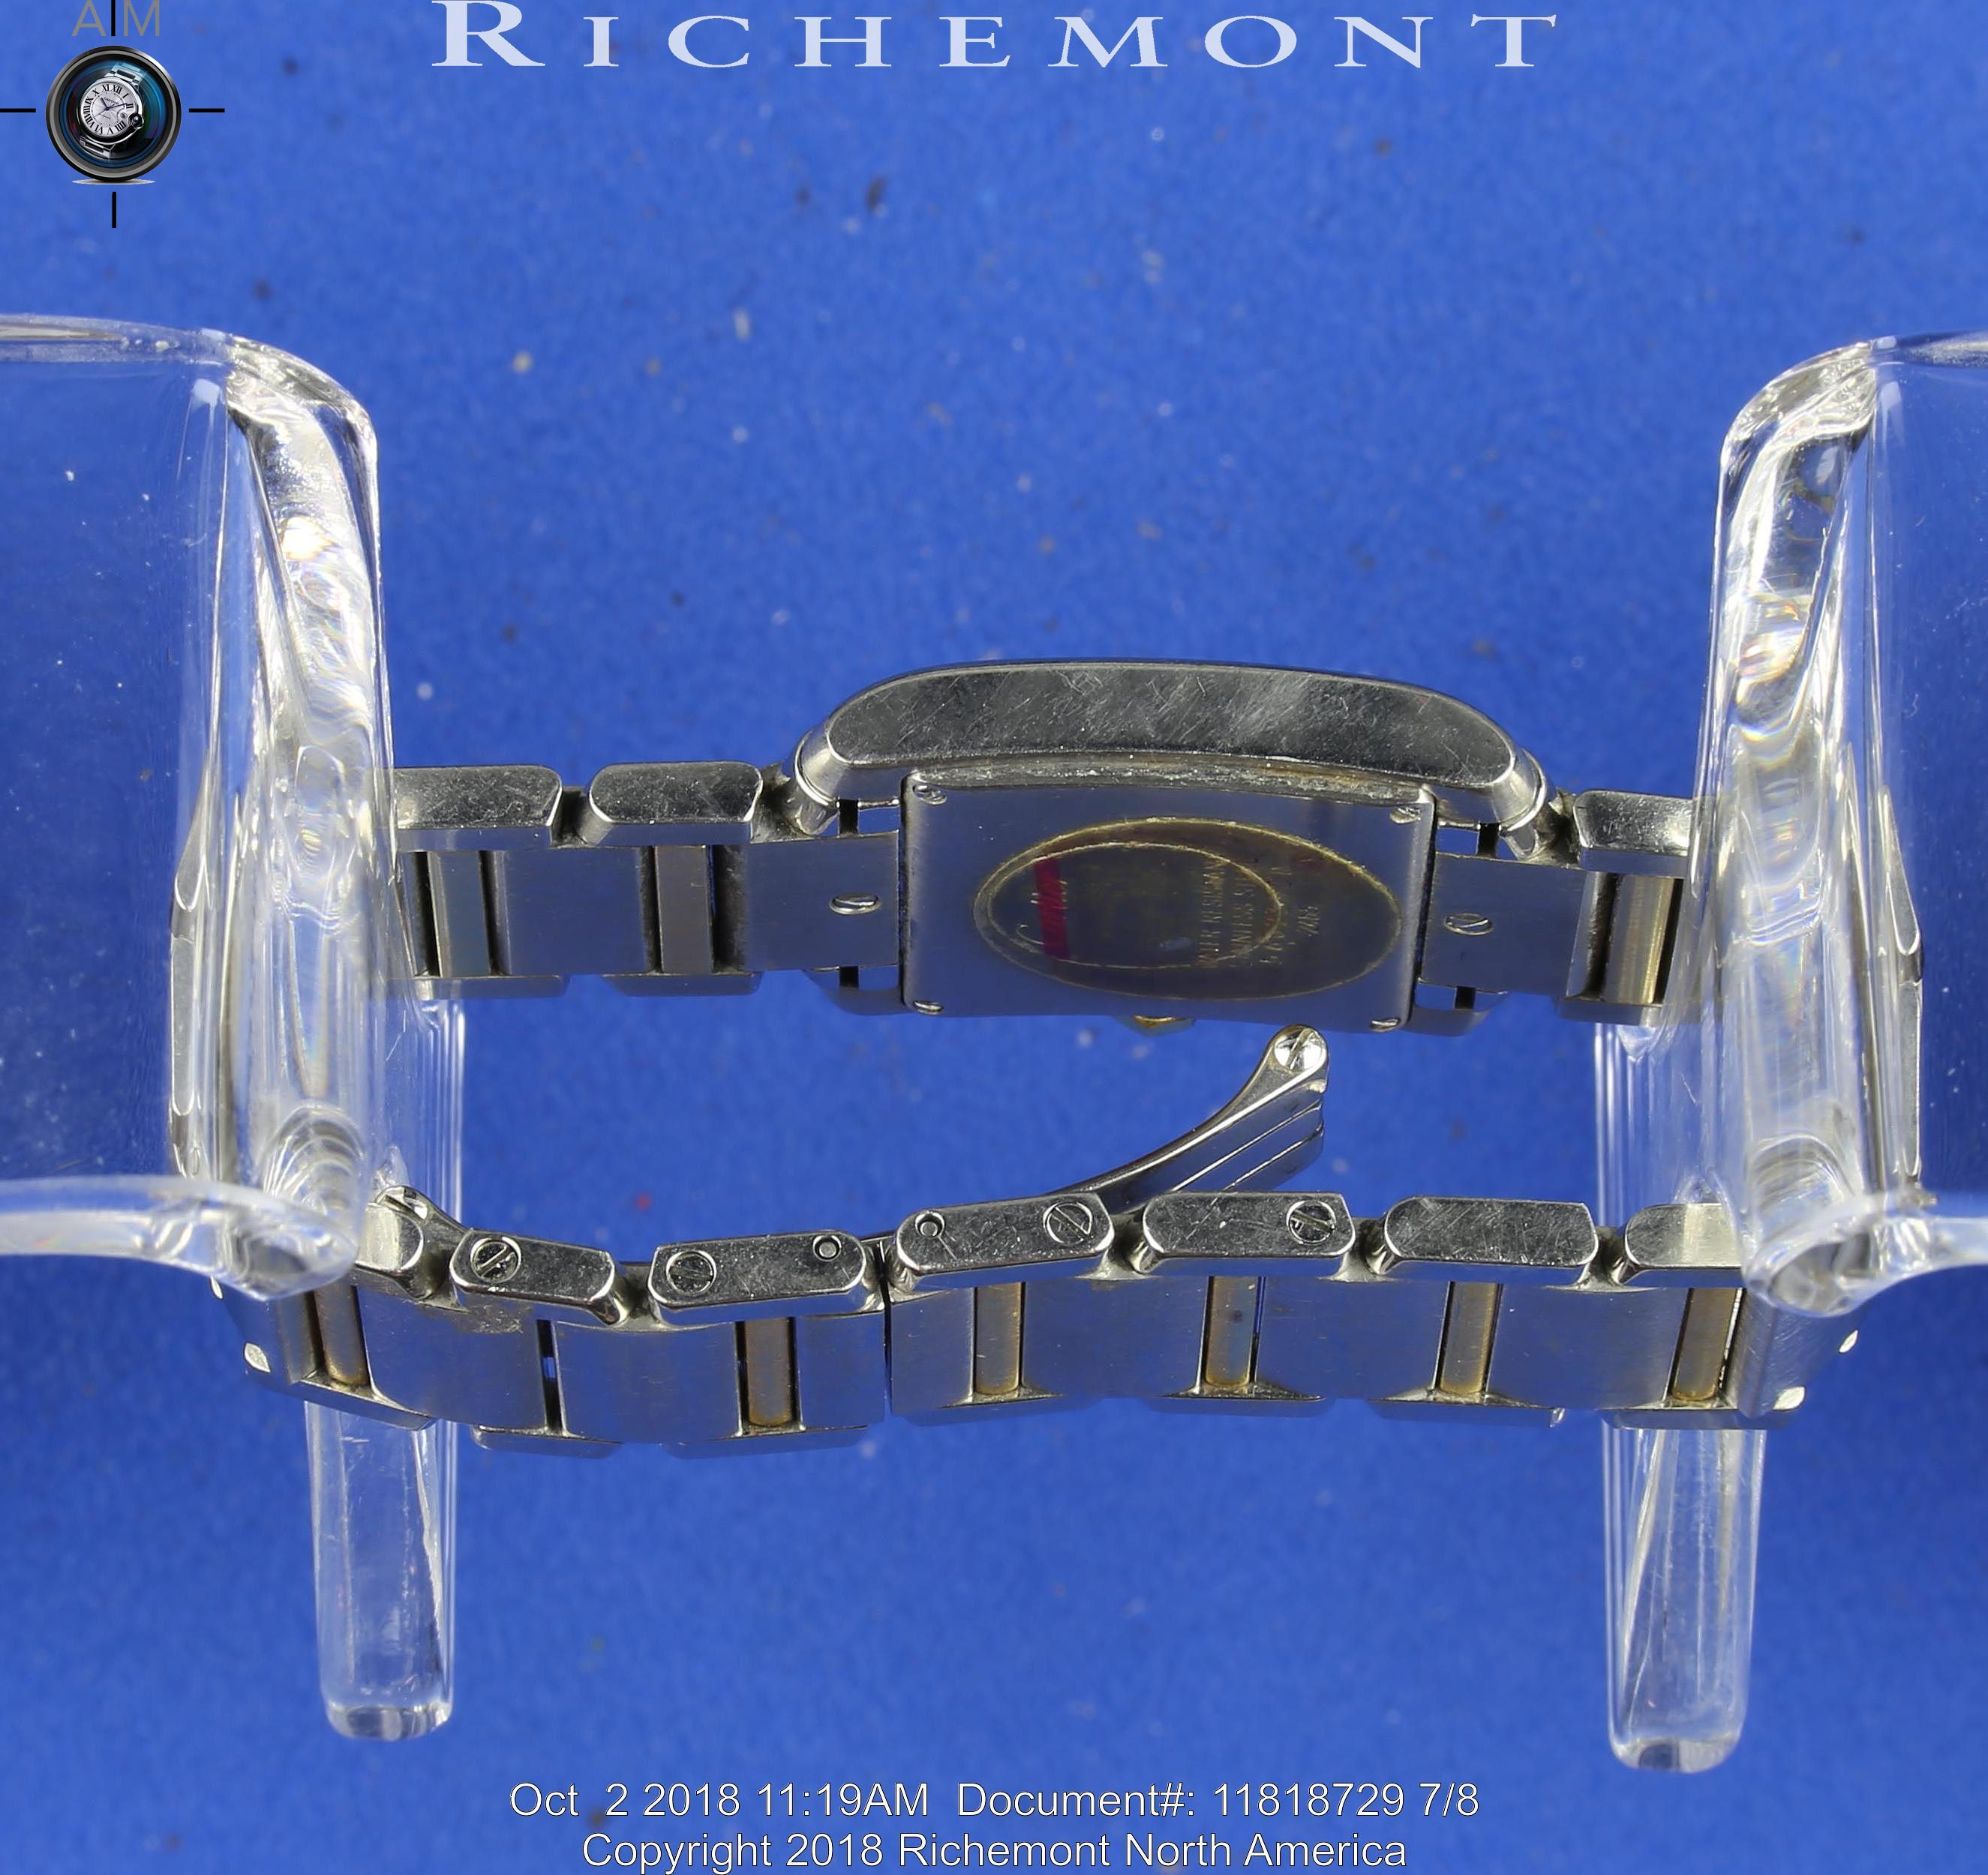watchback: (802, 686, 1433, 1041)
